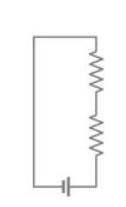resistor: (80, 105, 110, 166), (81, 42, 114, 97)
